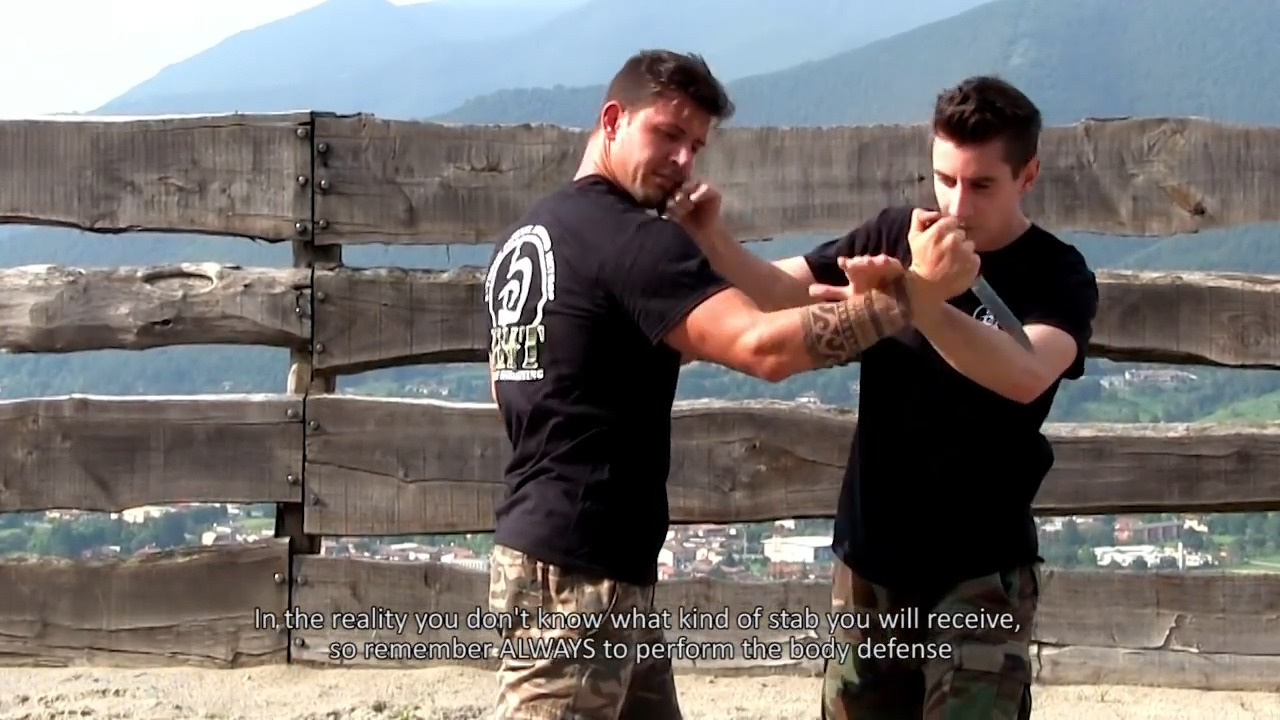knife: (907, 204, 1044, 355)
